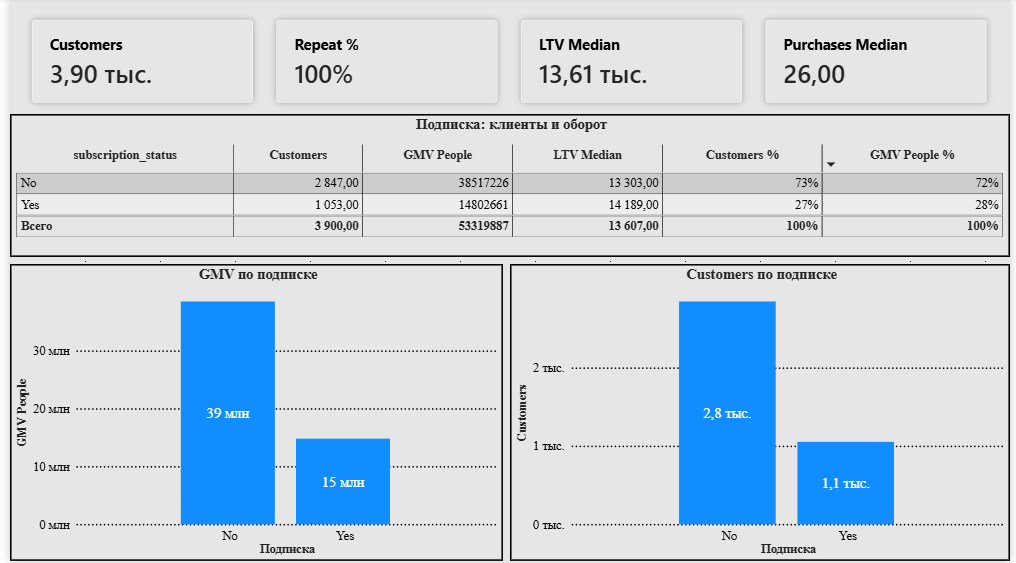

This screenshot's page, from the dashboard's own definition file:
{"tool":"powerbi","page":{"name":"Customers","canvas":[1280,720],"ordinal":1},"visuals":[{"type":"cardVisual","fields":{"Data":["people.Customers","people.Repeat %","people.LTV Median","people.Purchases Median"]},"box":[0,0,1280,162.6],"z":0},{"type":"tableEx","title":"Подписка: клиенты и оборот","fields":{"Values":["people.subscription_status","people.Customers","people.GMV People","people.LTV Median","people.Customers %","people.GMV People %"]},"box":[0,148.5,1280,183],"z":1},{"type":"clusteredColumnChart","title":"GMV по подписке","fields":{"Y":["people.GMV People"],"Category":["people.subscription_status"]},"box":[0,340.5,631,380.2],"z":2},{"type":"clusteredColumnChart","title":"Customers по подписке","fields":{"Category":["people.subscription_status"],"Y":["people.Customers"]},"box":[640,340.5,640,380.2],"z":3}]}

Visuals, with their boxes in screenshot pixels (x1, y1, x2, y2), scaled from the page's 1280x720 canvas onto the 1016x563 screenshot:
cardVisual - people.Customers x people.Repeat %: {"left": 0, "top": 0, "right": 1015, "bottom": 127}
"Подписка: клиенты и оборот" tableEx: {"left": 0, "top": 116, "right": 1015, "bottom": 259}
"GMV по подписке" clusteredColumnChart: {"left": 0, "top": 266, "right": 501, "bottom": 562}
"Customers по подписке" clusteredColumnChart: {"left": 508, "top": 266, "right": 1015, "bottom": 562}
